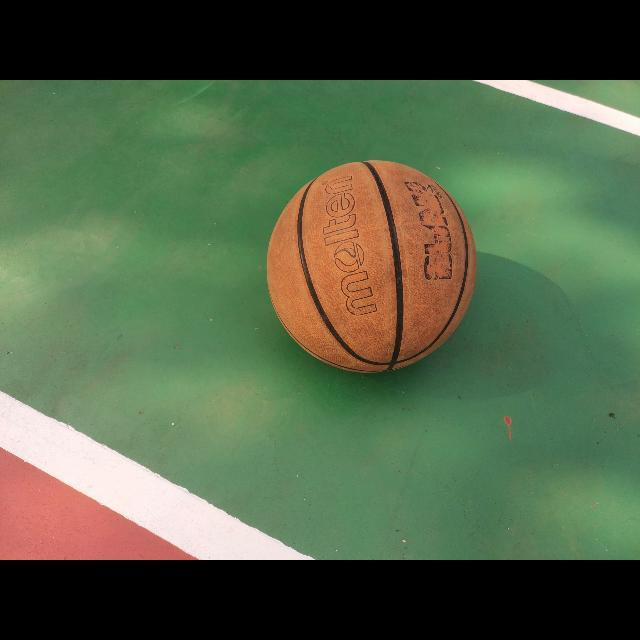basketball: (268, 160, 476, 372)
